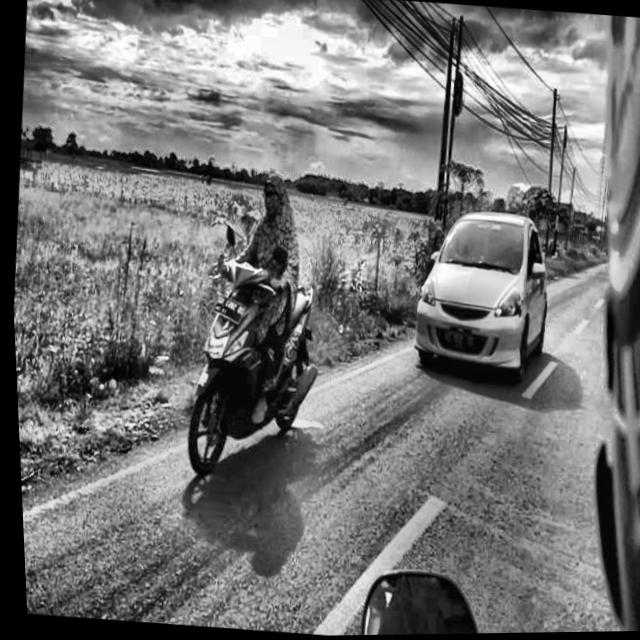motorcycle: (140, 250, 342, 486)
